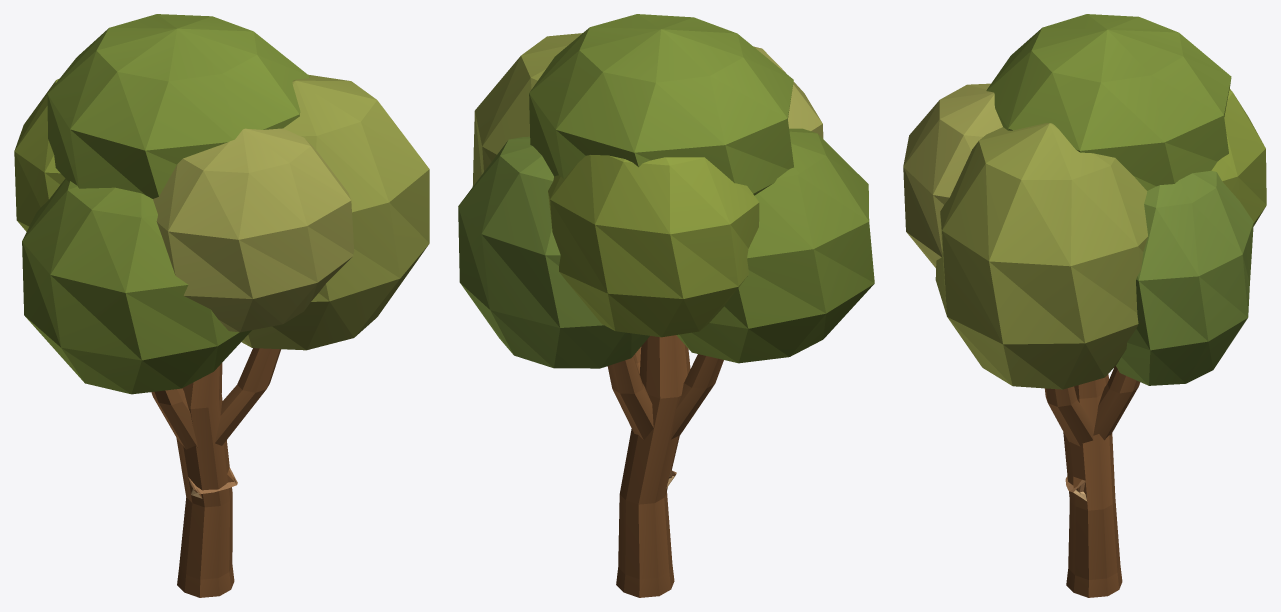
The model's file is Linden.glb.
The picture shows the model from 3 angles, left to right: view 1: azimuth 30°, elevation 25°; view 2: azimuth 150°, elevation 25°; view 3: azimuth 270°, elevation 25°; orthographic projection. The views are drawn at different scales.
Visible parts, largest first — view 1: Crown, Stump, Sound; view 2: Crown, Stump, Sound; view 3: Crown, Stump, Sound.
Part boxes in pixels (left/top/right/bottom): Crown: left=14, top=14, right=429, bottom=472; Stump: left=177, top=491, right=234, bottom=597; Sound: left=180, top=460, right=232, bottom=503; Crown: left=458, top=14, right=874, bottom=467; Stump: left=616, top=489, right=674, bottom=597; Sound: left=620, top=455, right=675, bottom=500; Crown: left=903, top=14, right=1266, bottom=471; Stump: left=1066, top=494, right=1122, bottom=597; Sound: left=1066, top=458, right=1115, bottom=506.
Size of the model in its own units: 3.1 by 4.49 by 2.71.
